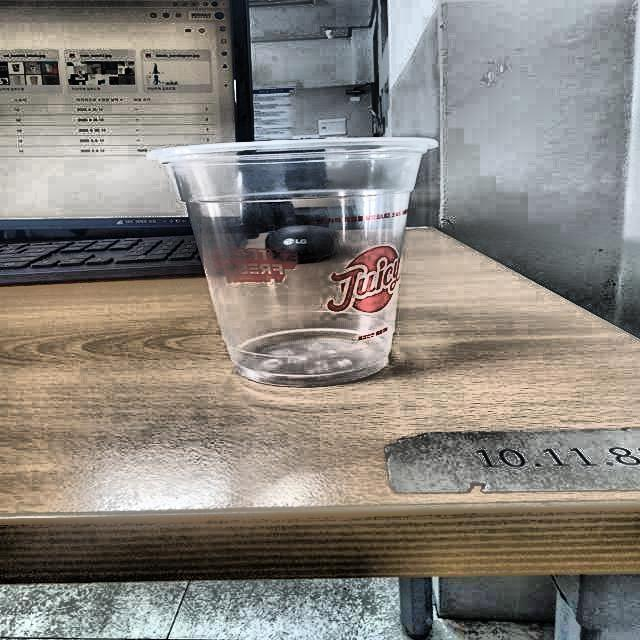plastic cup: (144, 134, 441, 385)
